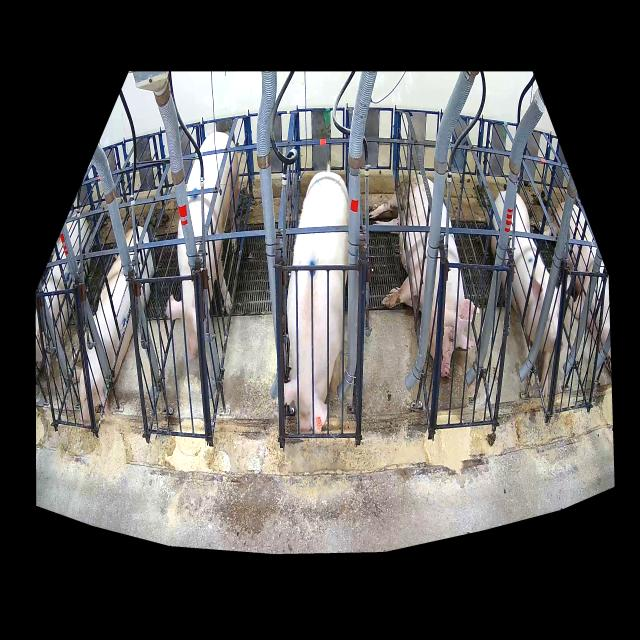pig: (370, 174, 475, 376), (284, 165, 349, 433), (72, 226, 154, 423), (170, 132, 238, 361), (490, 190, 562, 397)
